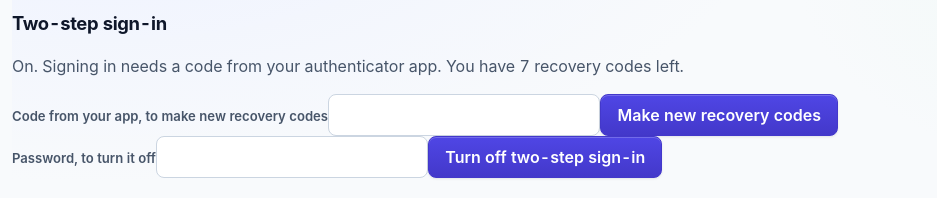
TwoStepSection › turns it off with the password
The image size is (937, 198).
Type "my-password" into the password field labelled "Password, to turn it off" at (292, 157), box [156,136,428,178]
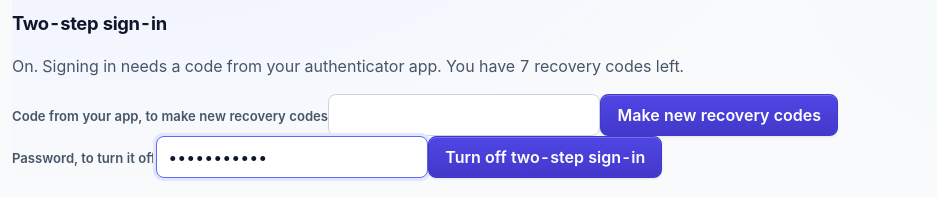
Click the button "Turn off two-step sign-in" at (545, 157), box [428,136,662,178]
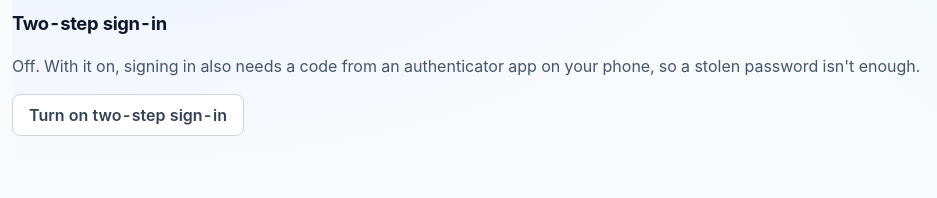
Result: the text "Off." is shown at [12,56,920,76]
